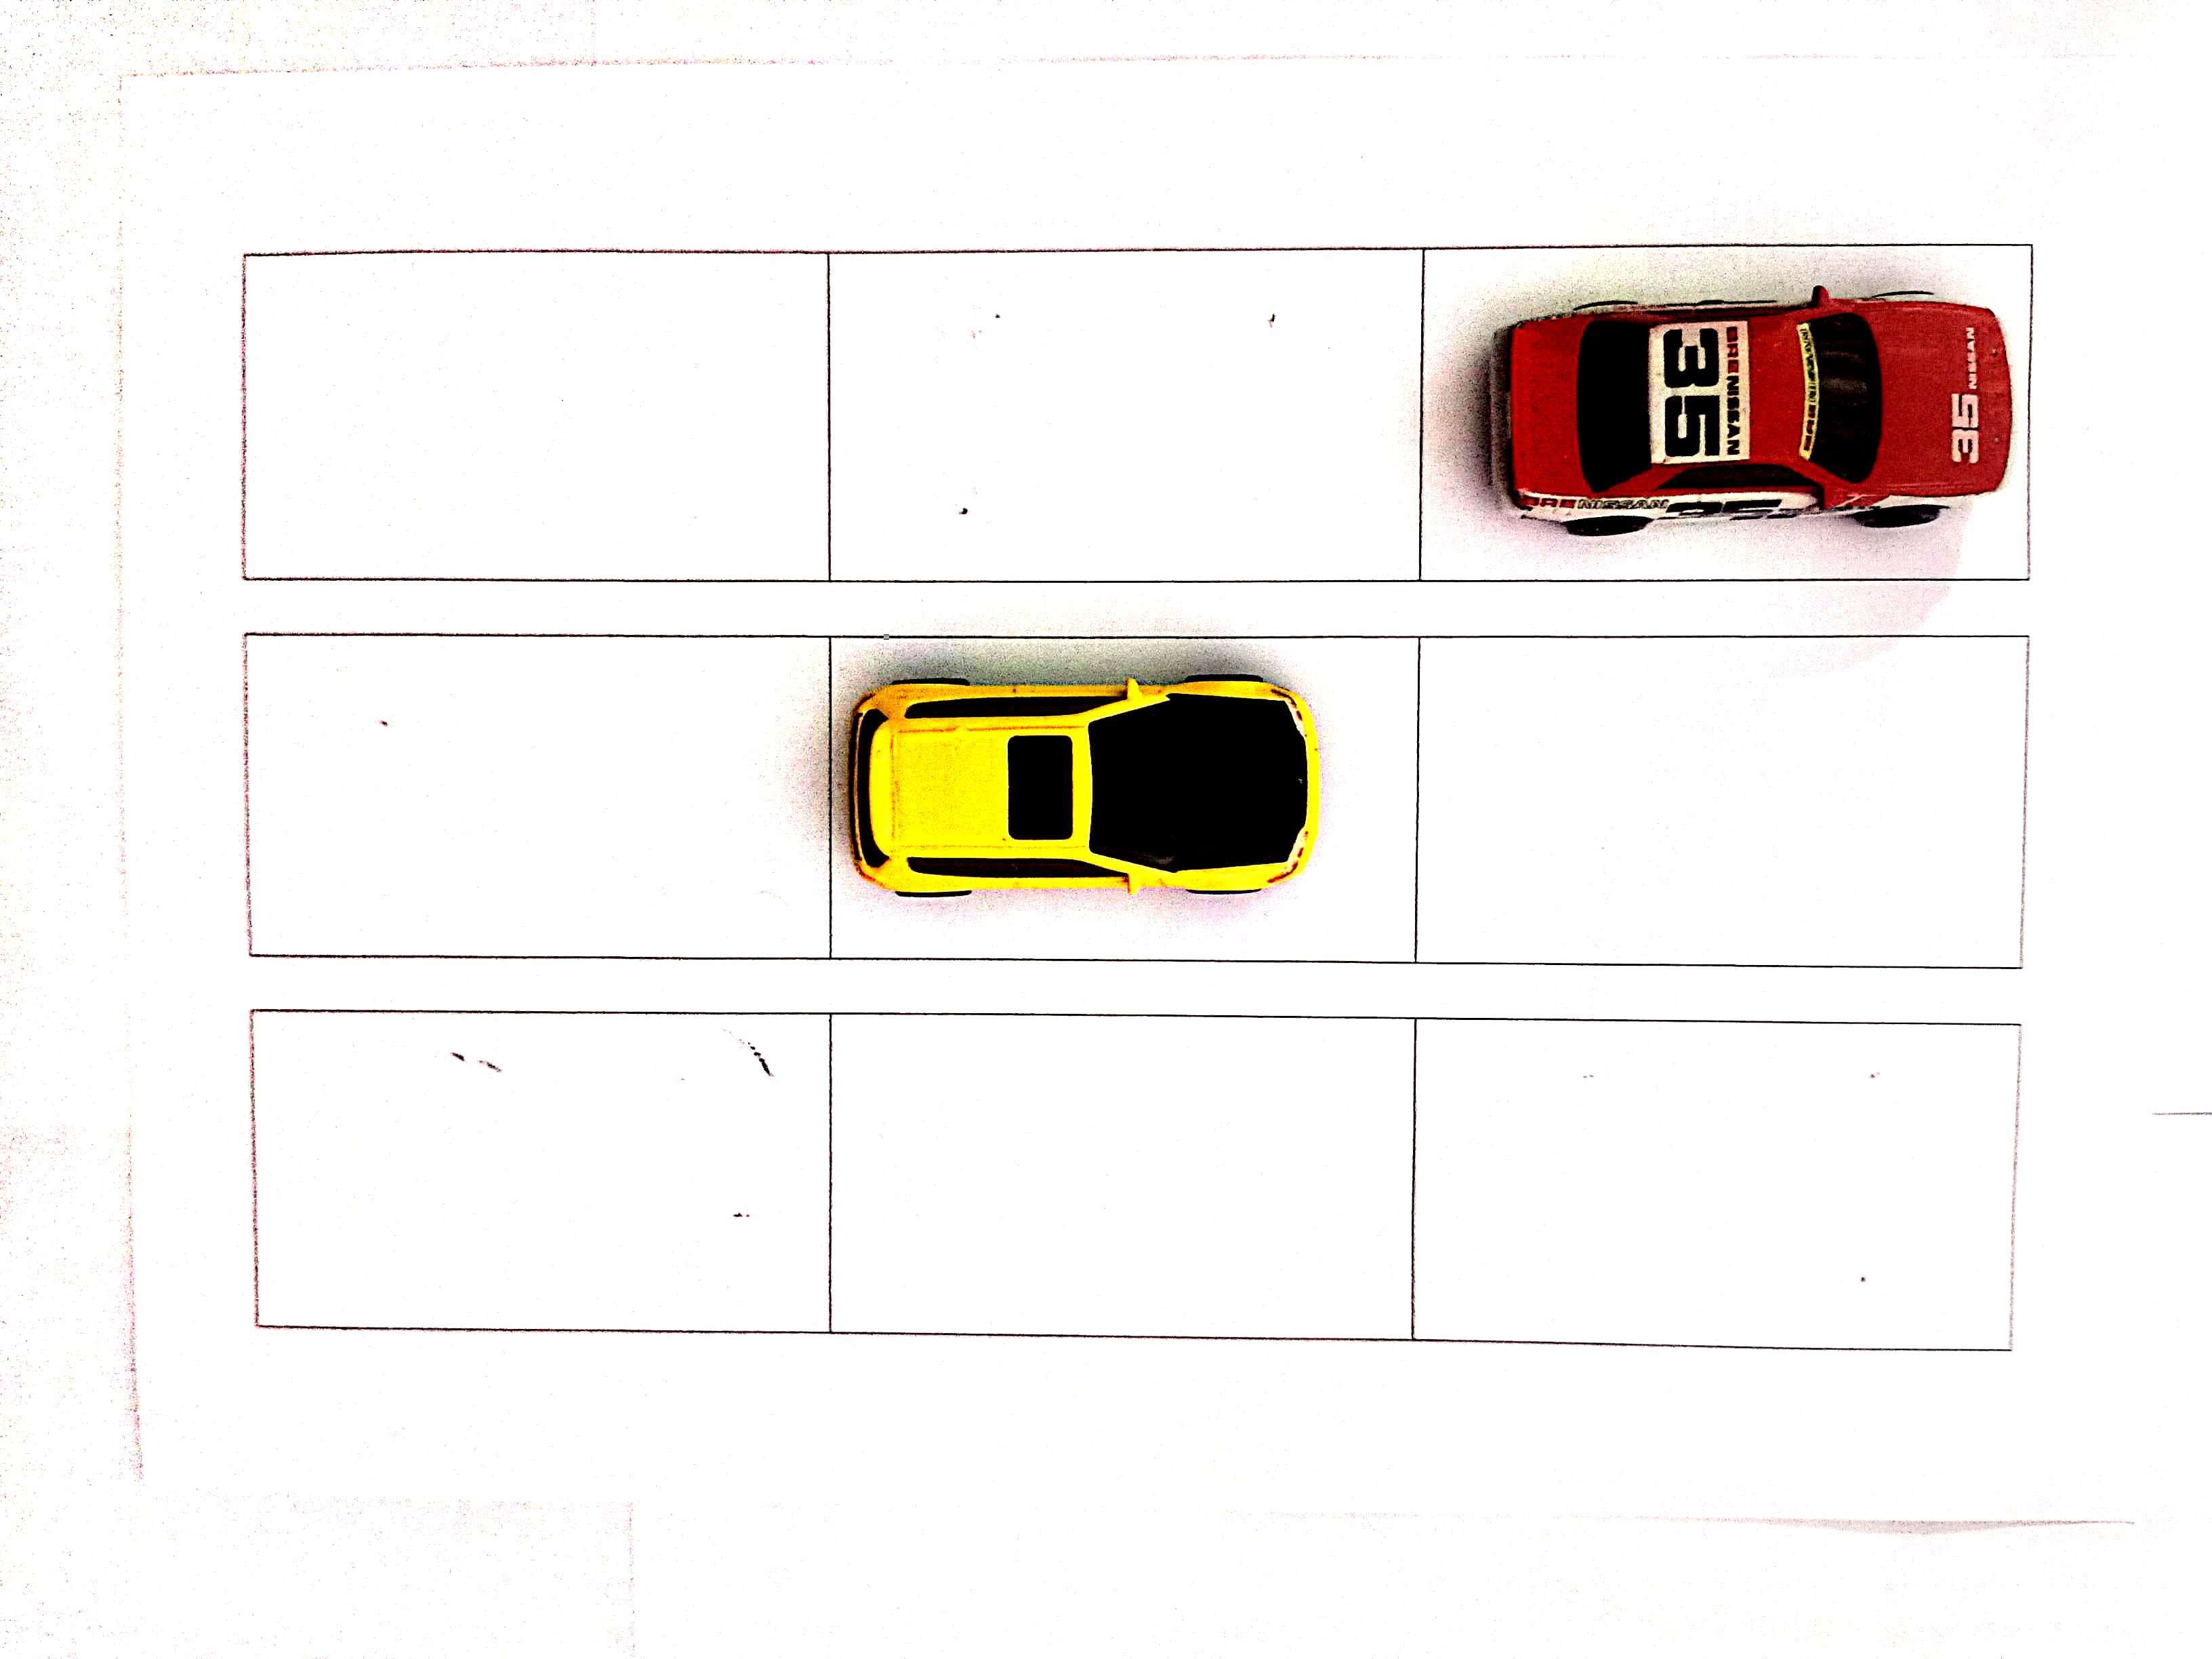Busy: (1426, 253, 2031, 582), (833, 638, 1418, 948)
Free: (827, 244, 1426, 586), (1418, 631, 2031, 962), (1414, 1021, 2022, 1345), (244, 247, 833, 577), (833, 1016, 1414, 1338), (242, 634, 833, 951), (253, 1014, 833, 1337)
